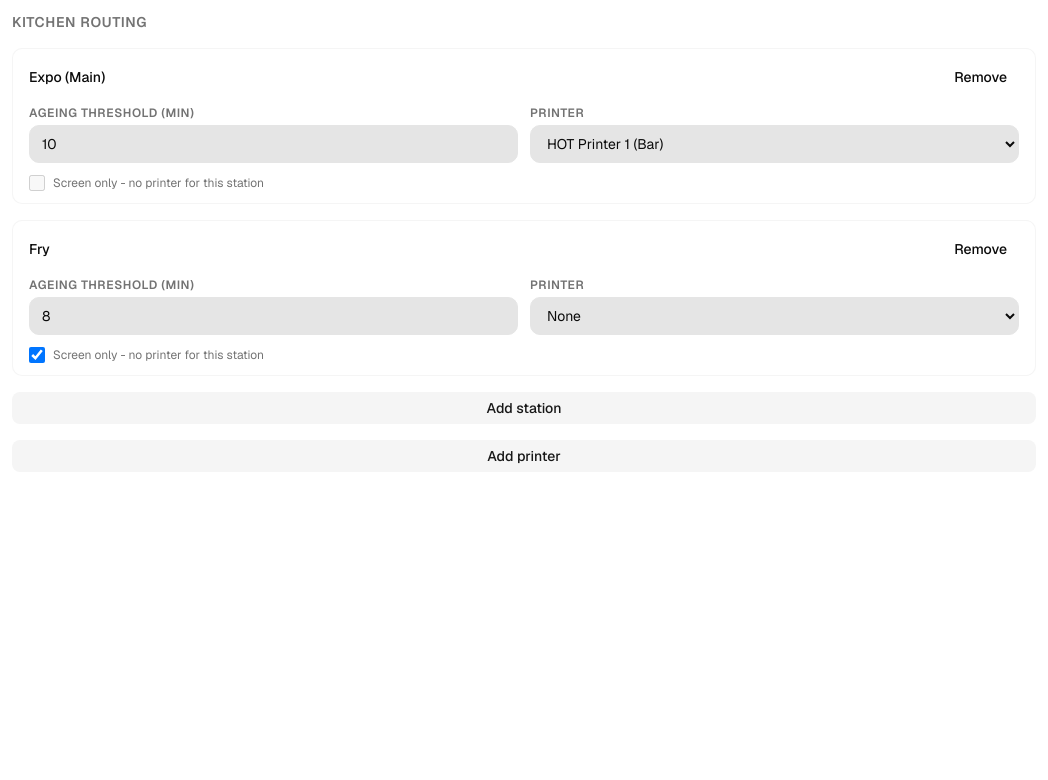
Test case: StationsPanel › Add printer › creates a printer and appends it
Click the button with test id "stations-add-printer-button".
click(524, 456)  # box [12, 440, 1036, 472]
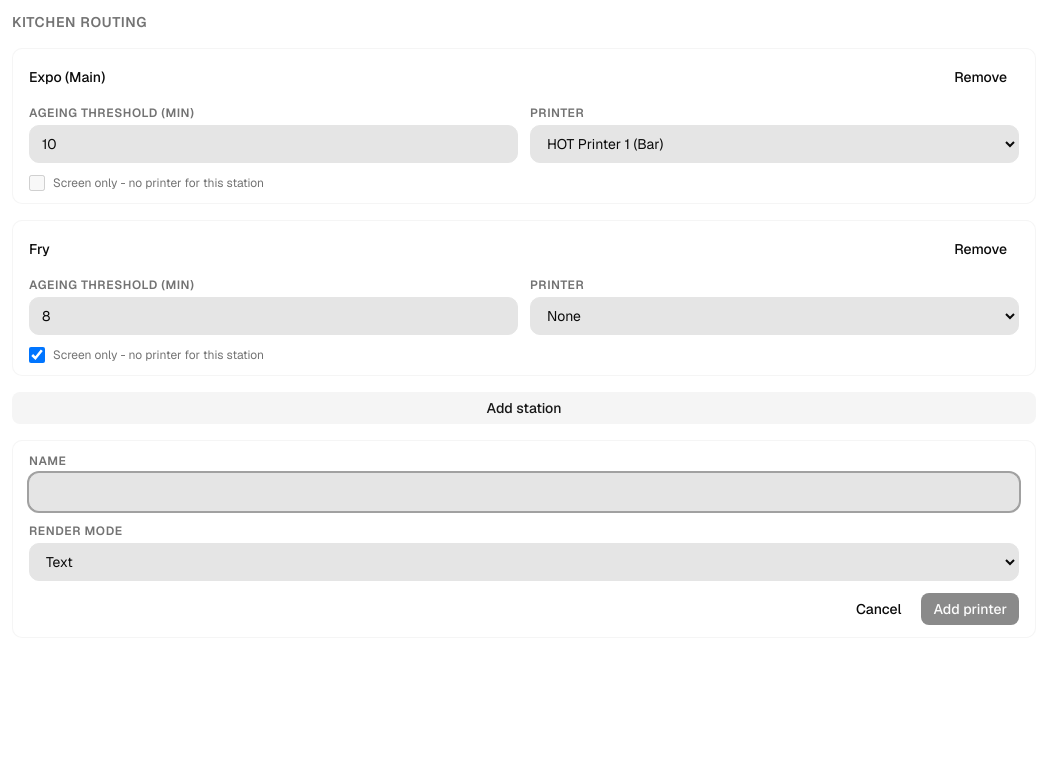
Type "KOT Printer" into the field with test id "add-printer-name".
click(524, 492); type("KOT Printer")  # box [29, 473, 1019, 511]
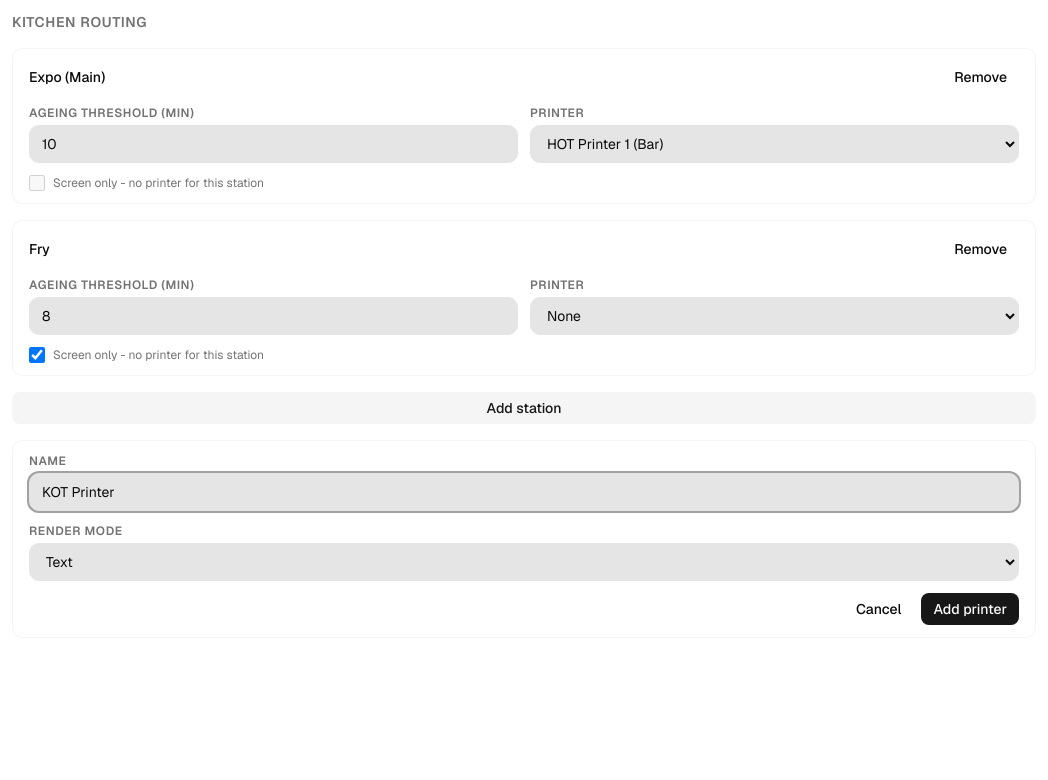
Select "Bitmap" in the dropdown with test id "add-printer-render-mode" at [524, 562], box [29, 543, 1019, 581]
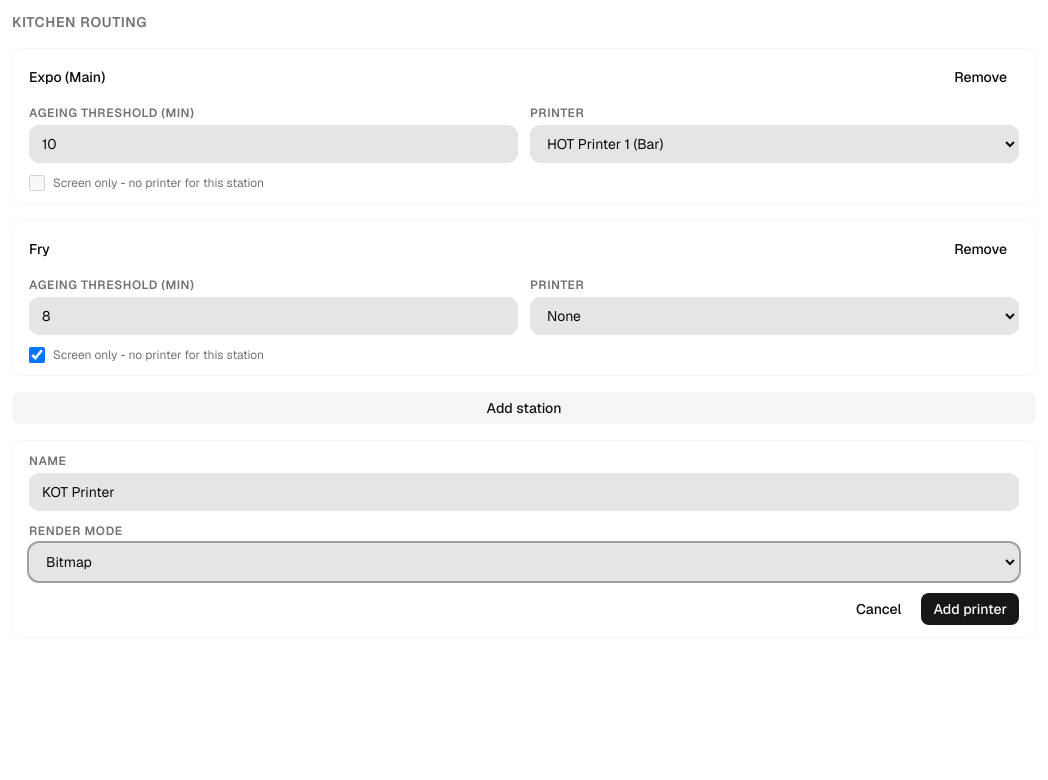
Click the button with test id "stations-add-printer-submit".
click(970, 609)  # box [922, 593, 1019, 625]
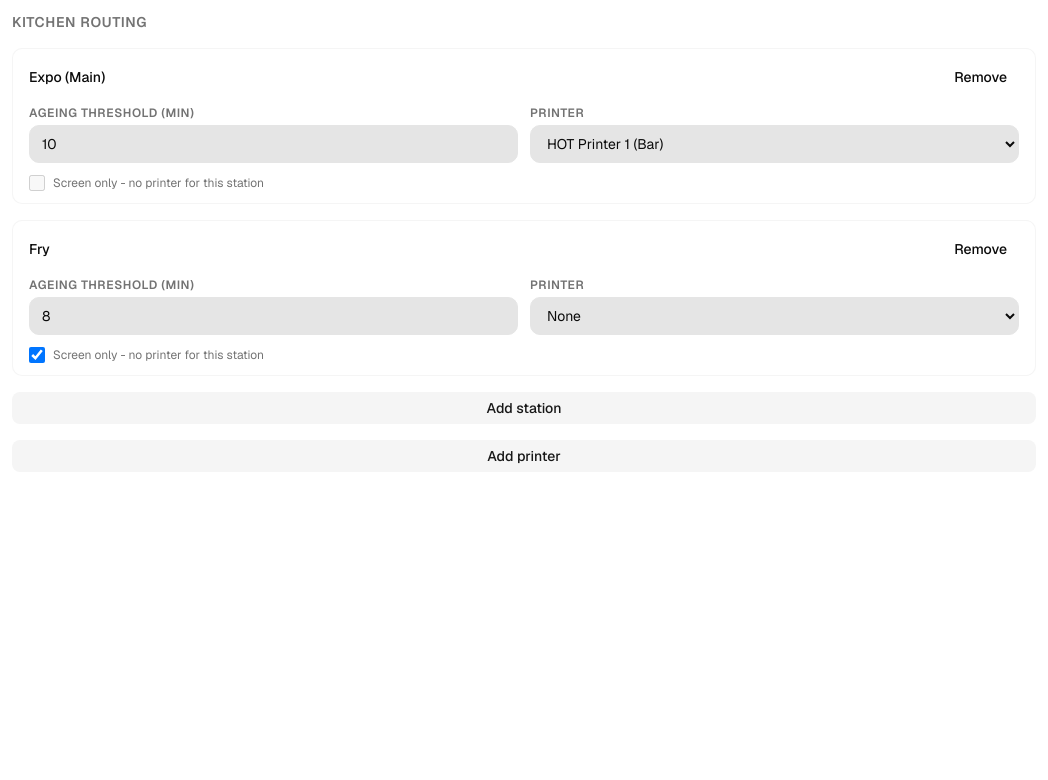
Expected: the form with test id "stations-add-printer-form" is gone
